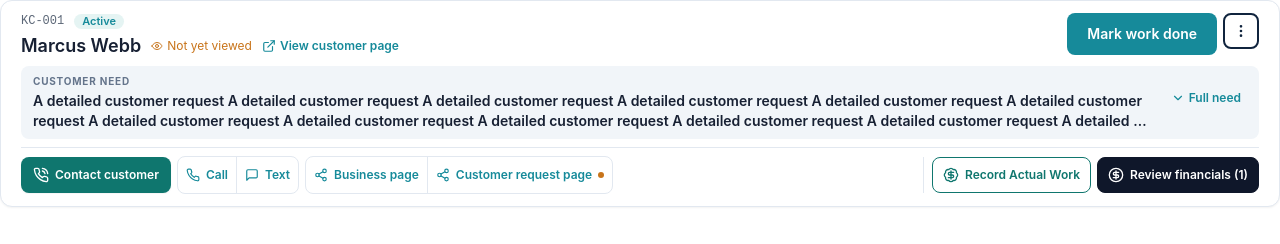
RequestDetailAnchor — compact identity and frequent actions › expands and collapses a long Customer Need accessibly
Click the button "Full need" at [1206, 98], box [1165,86,1247,110]
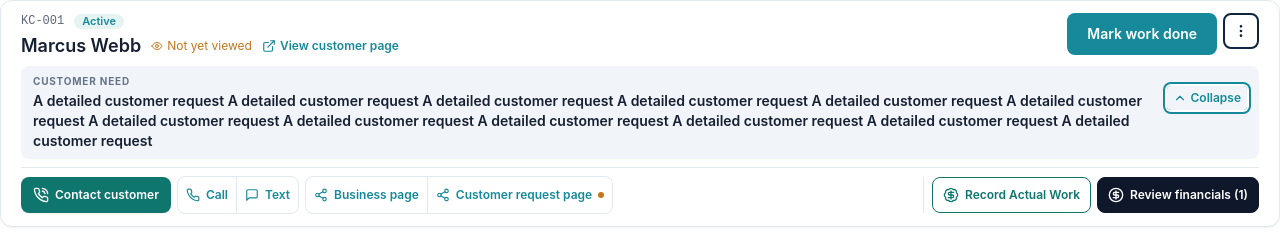
Now the button "Collapse" is expanded, box [1166,86,1247,110]
